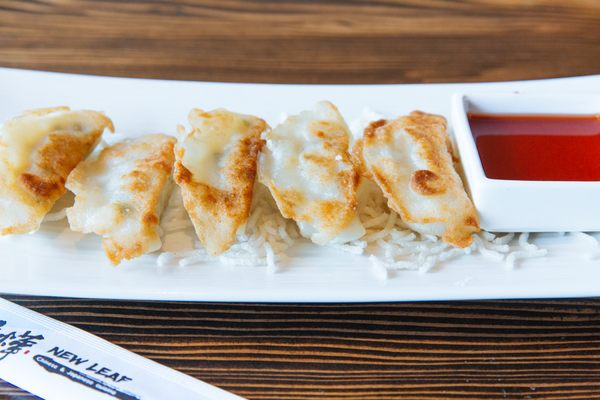curry: (0, 1, 599, 400)
